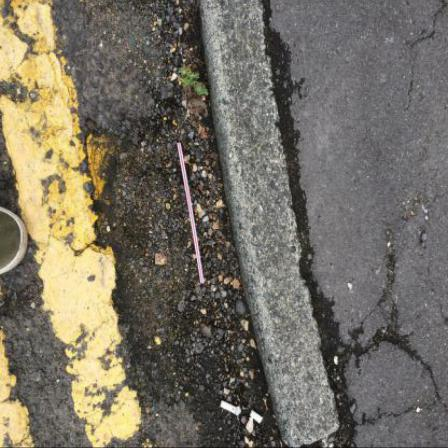Cigarette: (222, 402, 243, 418), (250, 411, 264, 425)
Straw: (179, 144, 206, 285)
